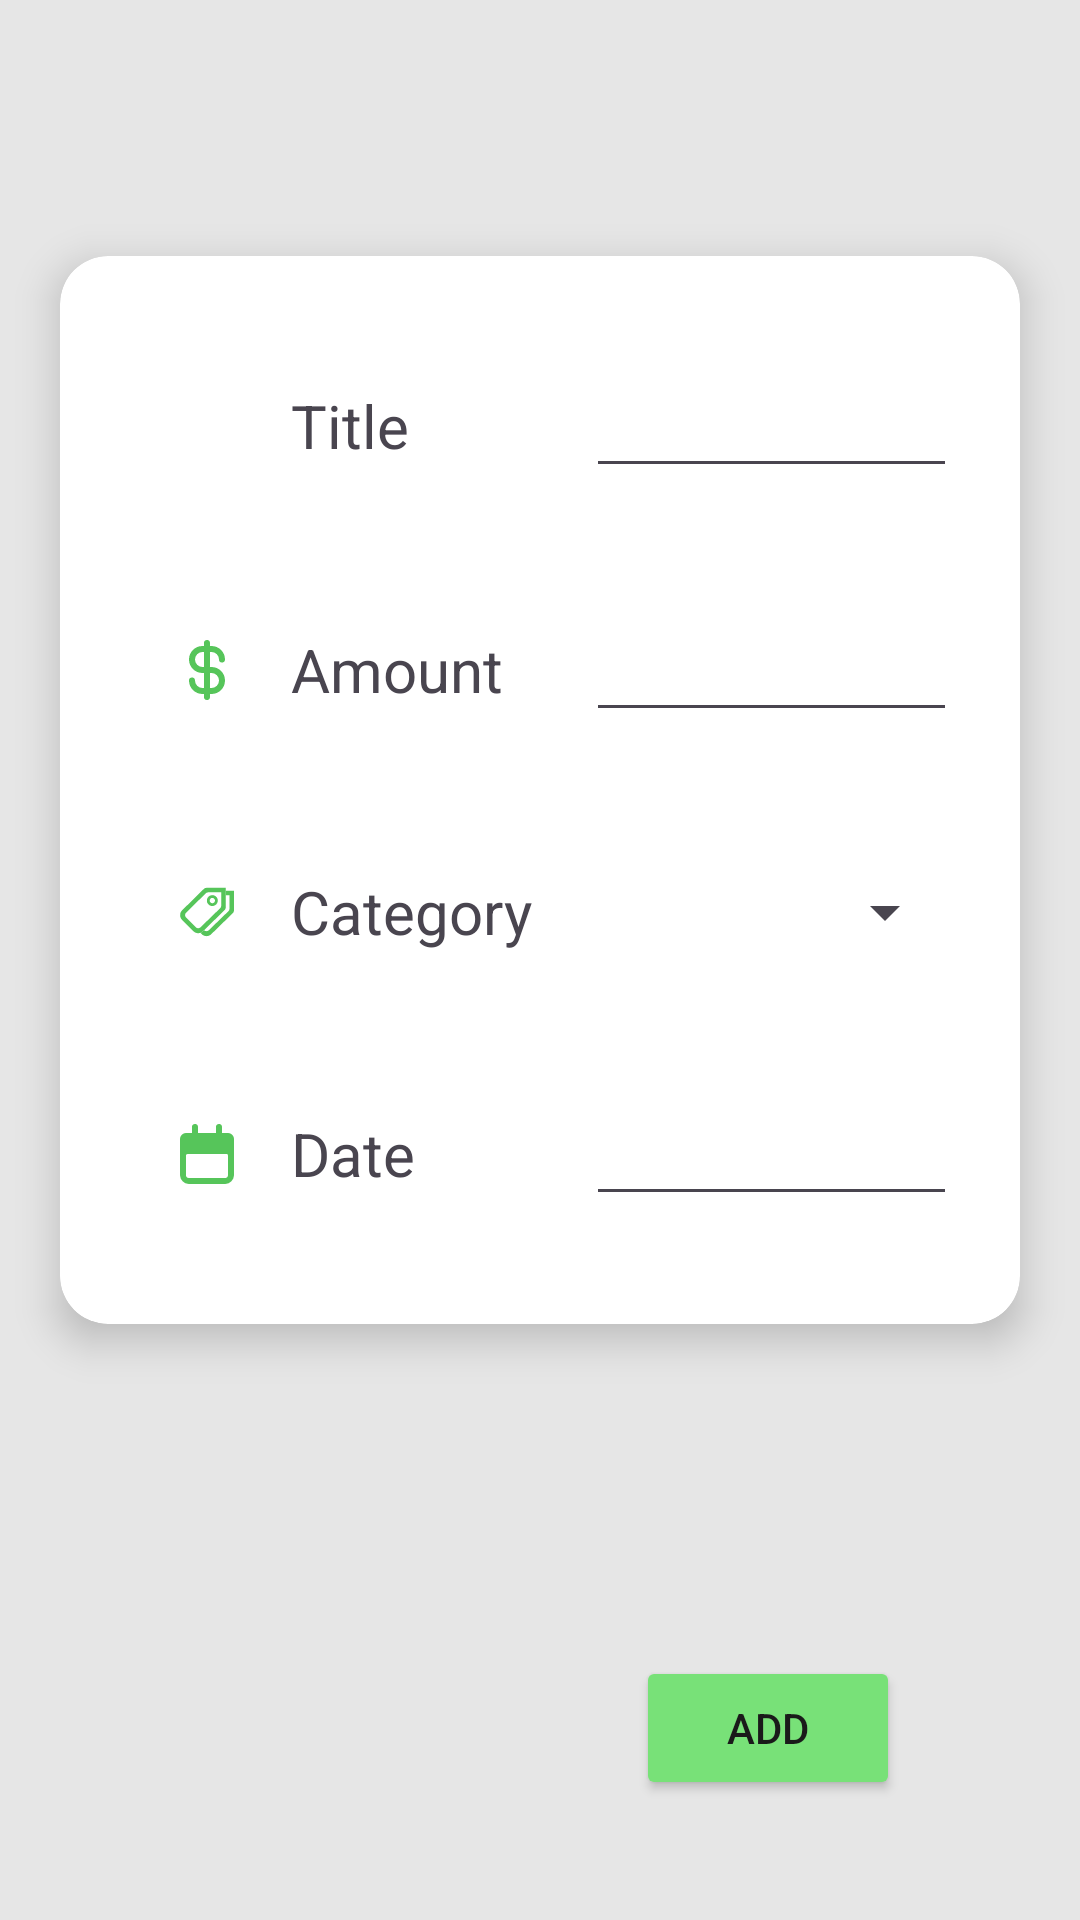

Icons on this 1080 x 1920 Android screen, each with its box as (x1, y1, x2, y2):
dollar sign manual add: (189, 640, 225, 700)
